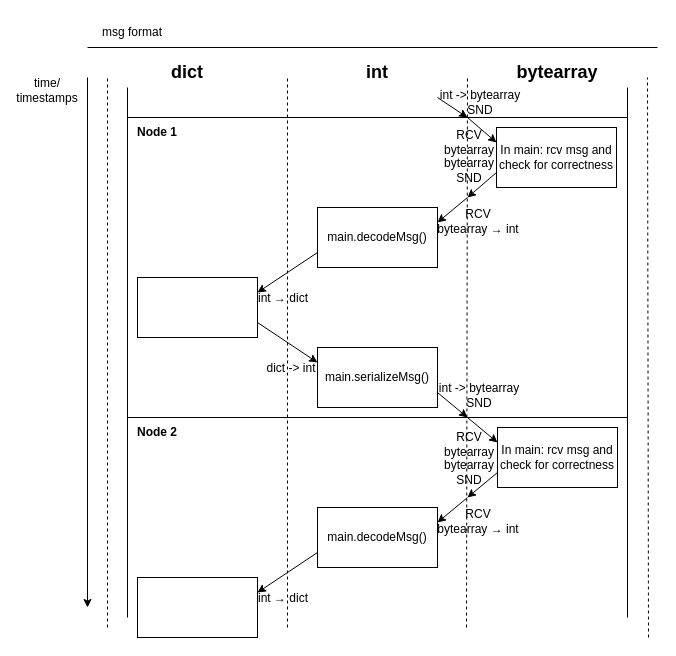
The diagram is 676 pixels wide and 656 high, and some of its shapes have lost their labels. Each missing label, with the centre of its shape:
"logic ↓ msgBuild.createMsg()" goes at point 197,307.
"loop continues" goes at point 197,607.
